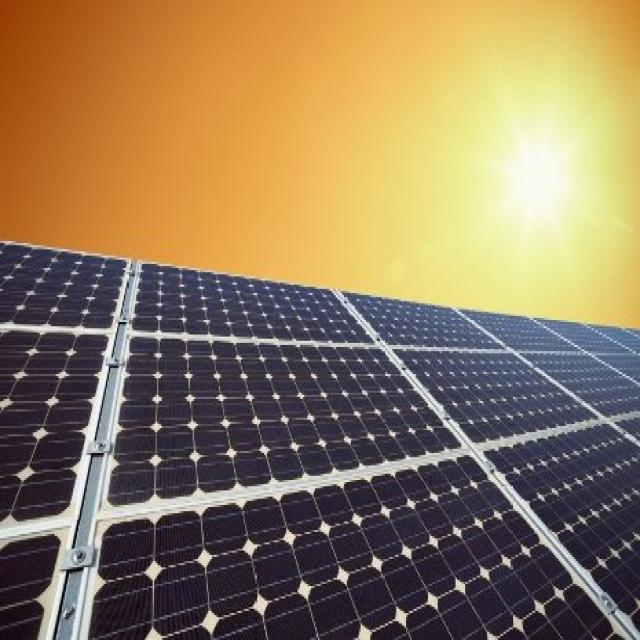clean-solar-panel: (1, 242, 640, 638)
